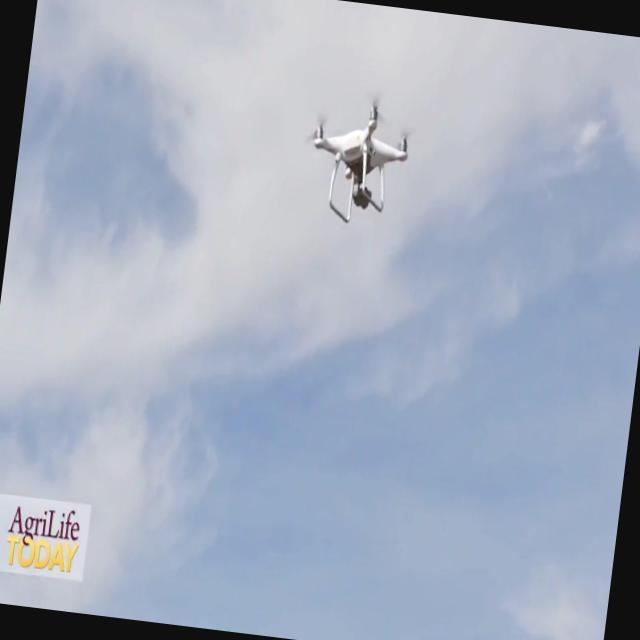drone: (302, 91, 415, 230)
